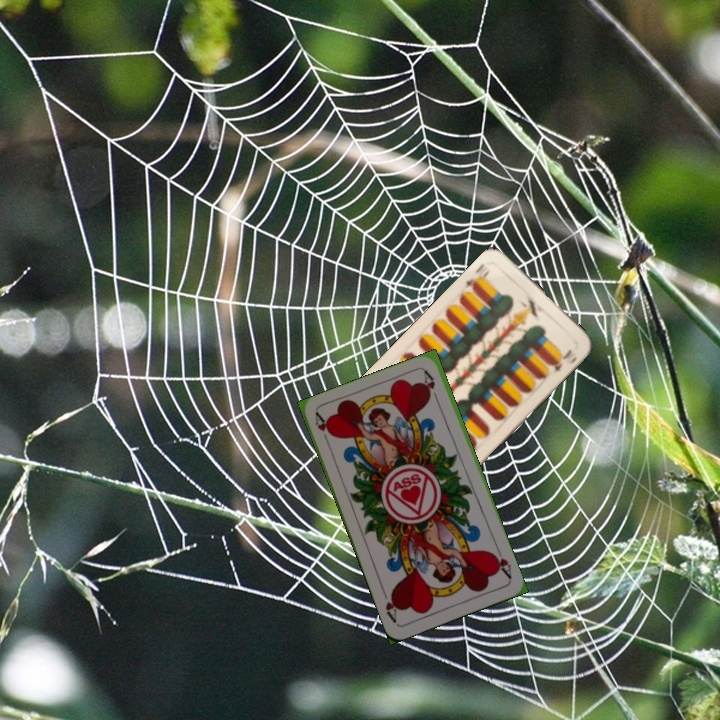E10: (461, 259, 492, 294)
HA: (311, 409, 335, 449), (488, 549, 514, 582)
